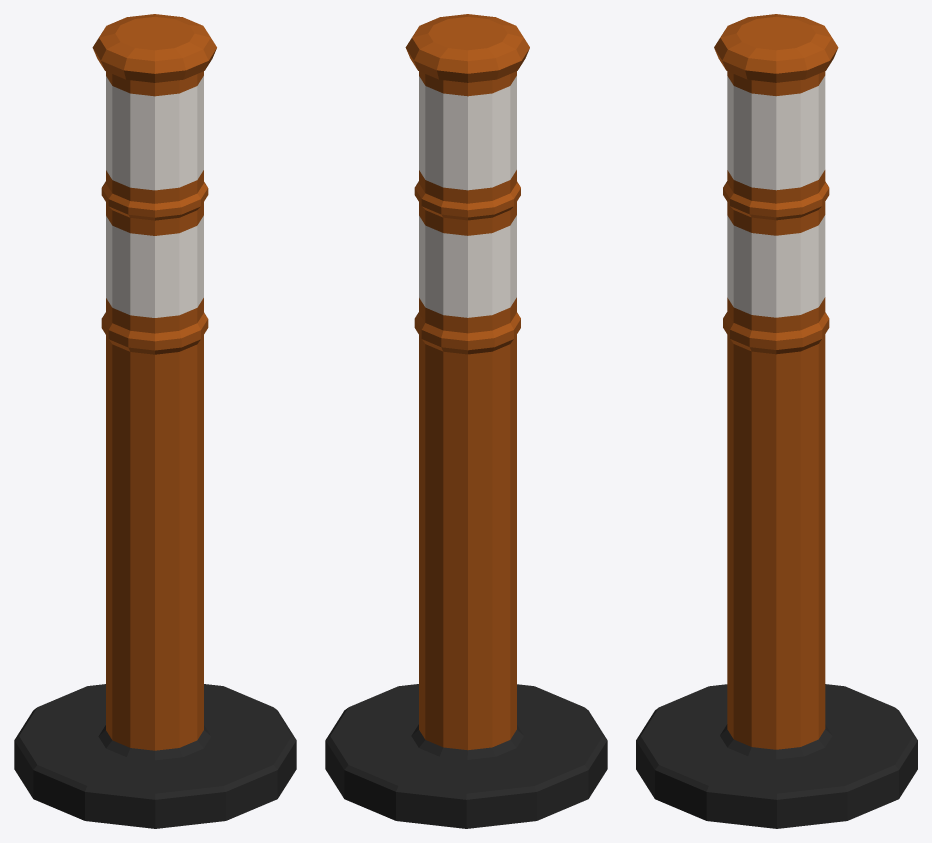
File: LP_Road Barrier_01.fbx
3 renders of one model, left to right at view 1: azimuth 30°, elevation 25°; view 2: azimuth 150°, elevation 25°; view 3: azimuth 270°, elevation 25°, orthographic.
Visible parts, largest first — view 1: LP_Road Barrier_01; view 2: LP_Road Barrier_01; view 3: LP_Road Barrier_01.
Part boxes in pixels (x1,y1,x2,y2): LP_Road Barrier_01: [14, 14, 296, 828]; LP_Road Barrier_01: [325, 14, 607, 828]; LP_Road Barrier_01: [636, 14, 917, 828].
Size of the model in its own units: 0.3092 by 0.89 by 0.3092.
